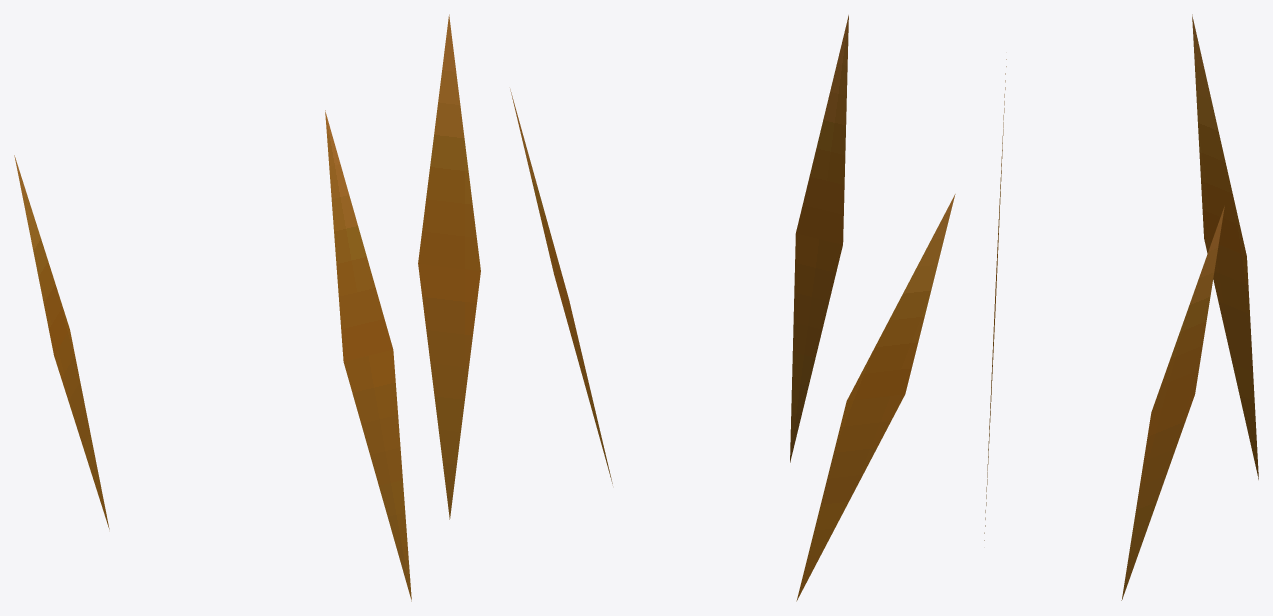
Rendered from plants_me_main_grass81.gltf.
The picture shows the model from 3 angles, left to right: view 1: azimuth 30°, elevation 25°; view 2: azimuth 150°, elevation 25°; view 3: azimuth 270°, elevation 25°; orthographic projection. The views are drawn at different scales.
Visible parts, largest first — view 1: plants_me_main_grass81; view 2: plants_me_main_grass81; view 3: plants_me_main_grass81.
Boxes of the visible parts, bbox=[...] form: plants_me_main_grass81: bbox=[14, 14, 480, 601]; plants_me_main_grass81: bbox=[510, 15, 955, 601]; plants_me_main_grass81: bbox=[984, 14, 1258, 600].
Bounding box in the file's own units: 0.4252 × 0.45 × 0.24.
Materials: 1 (1 with a texture image).
